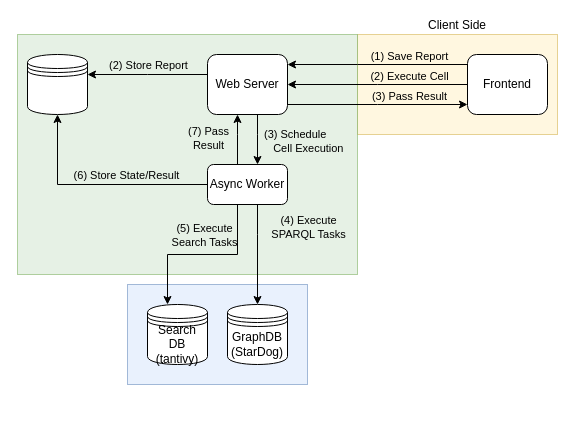
The diagram is 575 pixels wide and 422 high, and some of its shapes have lost their labels. Each missing label, with the box of its shape:
BOLD Backend: (16, 34, 358, 274)
Local Data Cluster: (126, 284, 308, 384)
RDB: (26, 54, 88, 114)
